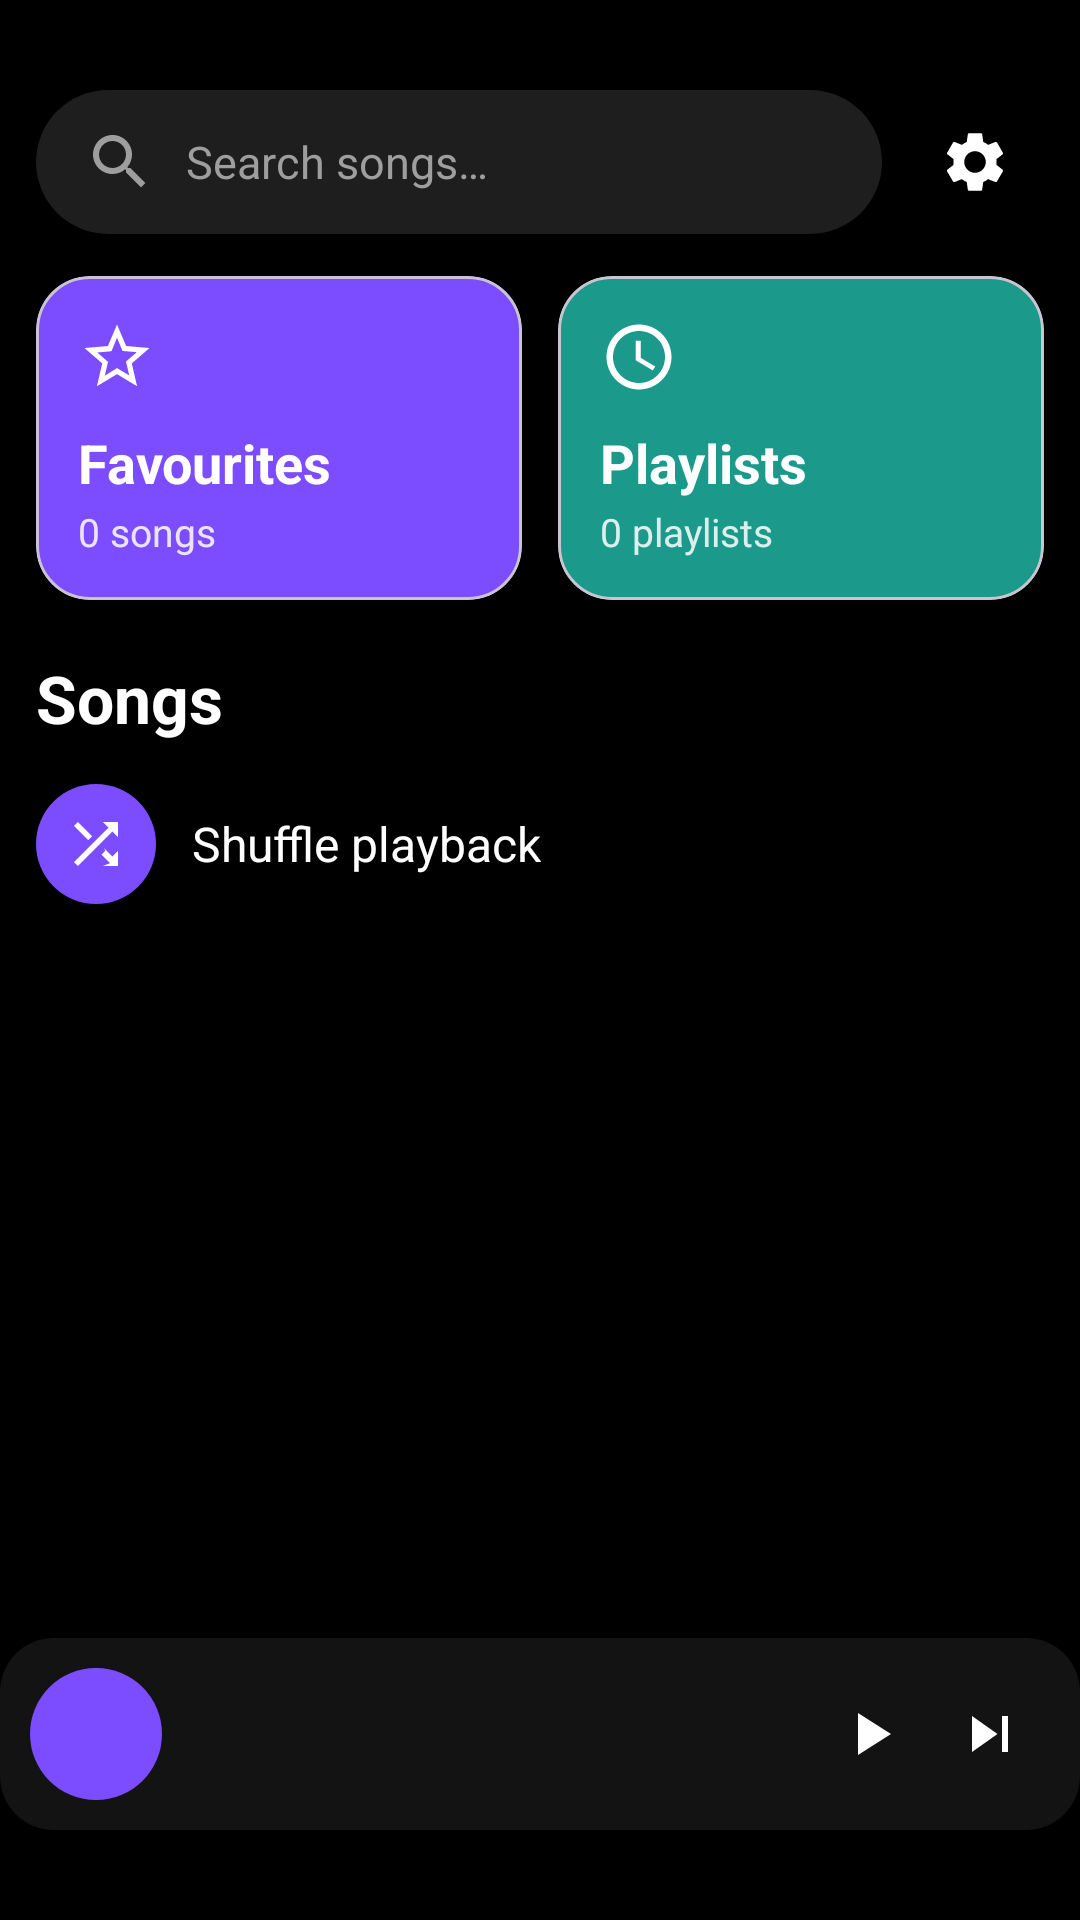

Where to tap for icons on this 1080w x 1920h app screen, as (x,y):
Next: (990,1734)
Play: (874,1734)
Settings: (975,162)
